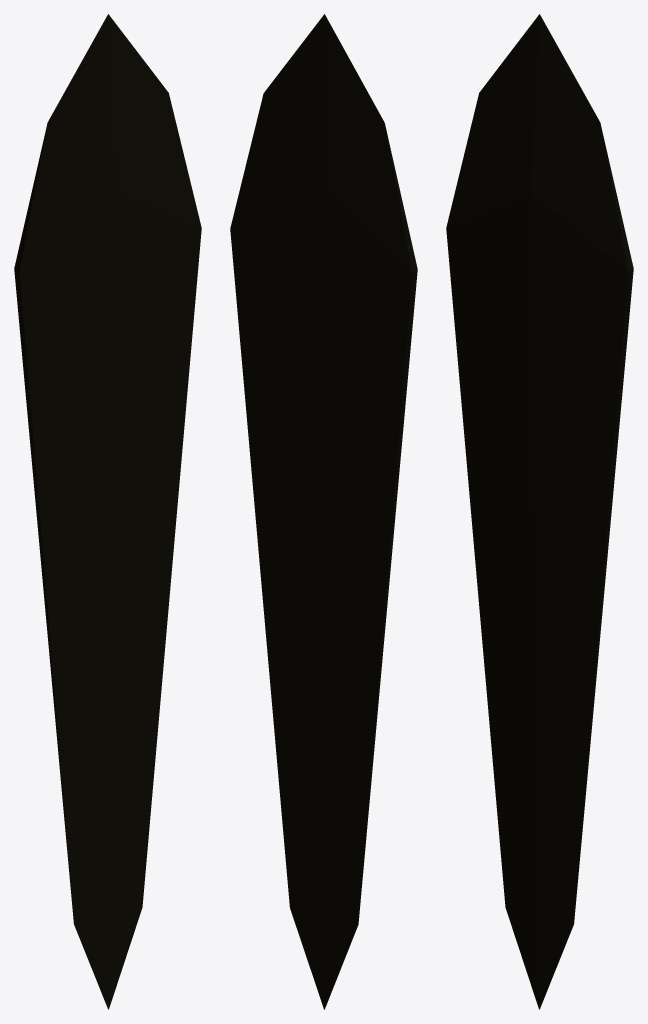
The model's file is manesilla1.obj.
3 views of the same model, side by side, from view 1: azimuth 30°, elevation 25°; view 2: azimuth 150°, elevation 25°; view 3: azimuth 330°, elevation 25° (orthographic).
Visible parts, largest first — view 1: manesilla1:minutehand_clocktexture; view 2: manesilla1:minutehand_clocktexture; view 3: manesilla1:minutehand_clocktexture.
Part boxes in pixels (bbox=[...]): manesilla1:minutehand_clocktexture: bbox=[14, 14, 201, 1009]; manesilla1:minutehand_clocktexture: bbox=[230, 14, 417, 1009]; manesilla1:minutehand_clocktexture: bbox=[446, 14, 633, 1009].
Size of the model in its own units: 0.0757 by 0.3954 by 0.00804.
Materials: 1 (1 with a texture image).
